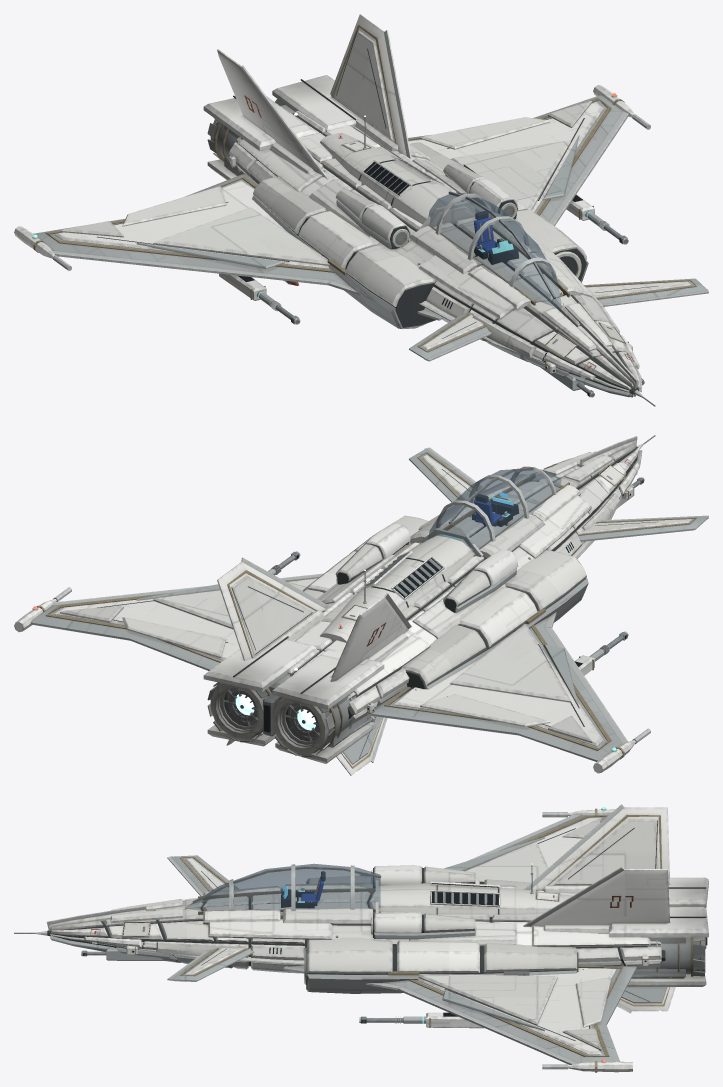
Rendered from lance_fighter.glb.
The picture shows the model from 3 angles, top to bottom: view 1: azimuth 30°, elevation 25°; view 2: azimuth 150°, elevation 25°; view 3: azimuth 270°, elevation 25°; orthographic projection. The views are drawn at different scales.
Parts seen in each view (by area): view 1: lance_fighter_hull, lance_fighter_glass; view 2: lance_fighter_hull, lance_fighter_glass, lance_fighter_plasma; view 3: lance_fighter_hull, lance_fighter_glass.
Part boxes in pixels (left/top/right/bottom): lance_fighter_hull: left=14, top=14, right=708, bottom=406; lance_fighter_glass: left=428, top=193, right=561, bottom=309; lance_fighter_hull: left=14, top=435, right=708, bottom=775; lance_fighter_glass: left=428, top=469, right=561, bottom=553; lance_fighter_plasma: left=235, top=694, right=315, bottom=730; lance_fighter_hull: left=14, top=804, right=708, bottom=1072; lance_fighter_glass: left=186, top=864, right=380, bottom=914.
Size of the model in its own units: 11.86 by 3.24 by 13.55.
3 materials, 1 textured.
